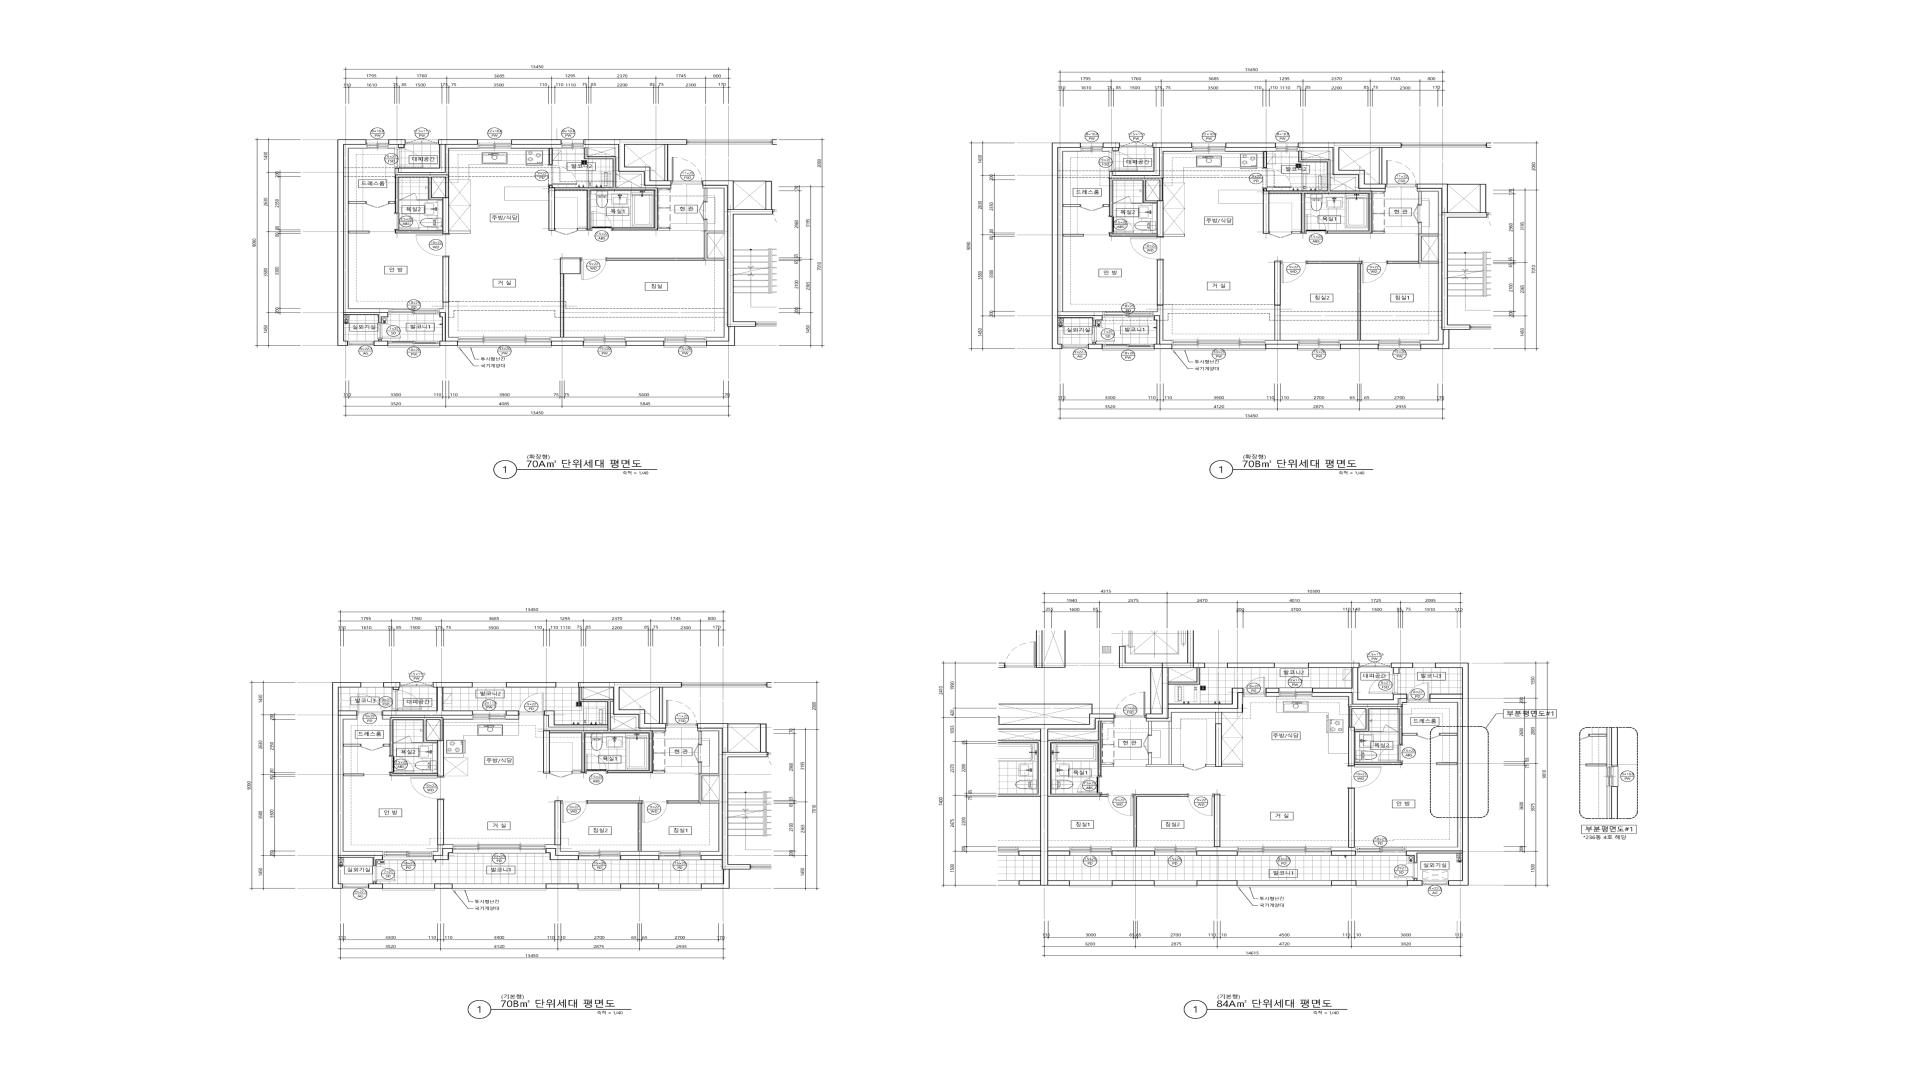door: (666, 700, 698, 728), (671, 157, 703, 183), (1386, 161, 1418, 186), (1114, 692, 1146, 717), (415, 233, 448, 257), (410, 777, 444, 799), (1349, 766, 1382, 789), (549, 165, 578, 186), (393, 690, 422, 711), (1369, 674, 1399, 694), (560, 800, 587, 823), (518, 692, 545, 715), (1280, 261, 1307, 284), (1188, 794, 1215, 816), (1108, 794, 1134, 816), (1263, 167, 1291, 189), (394, 148, 423, 167), (1109, 152, 1138, 171), (642, 800, 667, 823), (1362, 261, 1387, 284), (357, 694, 382, 716), (580, 258, 607, 280), (591, 211, 613, 231), (1407, 683, 1429, 703), (1244, 676, 1266, 696), (1378, 745, 1403, 762), (585, 754, 608, 773), (1304, 215, 1327, 233), (390, 756, 414, 773), (1109, 216, 1133, 233), (1077, 777, 1101, 794), (373, 866, 396, 882), (378, 323, 401, 339), (1093, 326, 1116, 342), (1395, 862, 1418, 878), (1270, 231, 1292, 239), (360, 744, 384, 750), (365, 202, 389, 208), (1080, 204, 1104, 211), (1416, 733, 1440, 740), (550, 771, 572, 778), (555, 228, 578, 235), (393, 736, 411, 744), (699, 202, 707, 220), (1414, 204, 1422, 223), (1143, 735, 1151, 753), (694, 745, 702, 762), (400, 193, 417, 200), (1183, 765, 1207, 770), (1113, 196, 1131, 203), (1383, 725, 1399, 732)
wall: (607, 186, 728, 342), (1406, 663, 1469, 886), (543, 682, 682, 774), (1040, 713, 1114, 886), (1416, 183, 1487, 349), (698, 724, 767, 889), (703, 181, 773, 345), (1052, 142, 1102, 349), (332, 682, 382, 889), (338, 140, 388, 345), (555, 145, 671, 231), (1263, 150, 1373, 233), (1120, 646, 1244, 719), (1406, 699, 1462, 851), (1058, 148, 1102, 315), (1146, 692, 1244, 766), (339, 716, 382, 856), (1298, 142, 1402, 189), (584, 140, 687, 186), (1307, 261, 1362, 340), (1308, 663, 1407, 704), (1418, 189, 1443, 344), (1298, 148, 1386, 191), (1349, 707, 1403, 766), (390, 717, 444, 777), (1109, 178, 1163, 236), (382, 682, 472, 716), (698, 729, 721, 856), (394, 140, 477, 175), (1134, 794, 1188, 847), (587, 800, 642, 852), (1113, 142, 1192, 175), (1109, 148, 1192, 178), (389, 175, 448, 214), (551, 274, 583, 342), (611, 702, 666, 731), (1312, 694, 1407, 707), (1266, 306, 1298, 344), (543, 715, 608, 731), (512, 145, 562, 165), (1048, 719, 1114, 732), (439, 302, 458, 342), (1154, 306, 1172, 344), (1154, 315, 1172, 349), (439, 313, 458, 345), (707, 233, 725, 258), (1422, 236, 1439, 261), (702, 777, 719, 800), (546, 844, 579, 856), (546, 848, 579, 860), (1168, 669, 1197, 682), (382, 716, 472, 720), (560, 257, 580, 274), (1349, 789, 1354, 848), (1156, 260, 1163, 306), (438, 799, 444, 845), (554, 800, 560, 845), (549, 186, 555, 231), (1274, 261, 1280, 306), (1146, 181, 1159, 203), (1352, 709, 1366, 729), (426, 720, 440, 740), (1215, 794, 1220, 847), (1216, 724, 1222, 766), (1225, 142, 1276, 148), (587, 148, 616, 157), (512, 140, 562, 145), (506, 682, 556, 687), (1228, 663, 1275, 669), (1391, 663, 1414, 674), (443, 257, 448, 302), (433, 844, 452, 856), (433, 848, 452, 860), (1112, 851, 1155, 856), (1112, 881, 1154, 886), (1196, 851, 1237, 856), (620, 851, 659, 856), (1197, 881, 1237, 886), (1225, 148, 1276, 152), (1340, 344, 1378, 349), (621, 884, 658, 889), (394, 229, 443, 233), (443, 198, 448, 233), (1112, 847, 1155, 851), (546, 884, 578, 889), (1266, 344, 1298, 349), (1196, 847, 1237, 851), (1102, 142, 1120, 152), (620, 856, 659, 860), (1340, 340, 1378, 344), (626, 342, 663, 345), (626, 338, 663, 342), (384, 682, 401, 690), (1332, 881, 1356, 886), (1407, 878, 1423, 886), (1332, 851, 1356, 856), (389, 140, 405, 148), (551, 342, 583, 345), (1088, 342, 1102, 349), (659, 687, 662, 724), (434, 884, 452, 889), (368, 882, 382, 889), (373, 339, 388, 345), (665, 145, 667, 181), (1379, 148, 1382, 183), (1332, 847, 1356, 851), (1387, 261, 1419, 264), (1048, 847, 1069, 851), (667, 800, 699, 803), (505, 711, 518, 716), (1263, 152, 1267, 167), (448, 231, 471, 233), (1150, 669, 1151, 713), (348, 231, 369, 233), (505, 716, 518, 720), (1266, 688, 1279, 692), (1266, 692, 1279, 696), (348, 202, 365, 204), (733, 181, 766, 182), (1102, 148, 1113, 152), (1448, 183, 1480, 185), (389, 145, 398, 149), (1403, 733, 1416, 736), (653, 770, 665, 773), (1373, 231, 1385, 233), (1163, 235, 1185, 236), (1222, 765, 1244, 766), (1292, 231, 1302, 233), (384, 744, 390, 746), (1101, 765, 1114, 766), (411, 742, 422, 744), (417, 199, 427, 200), (1104, 204, 1109, 207), (572, 771, 582, 773), (1207, 765, 1216, 766), (728, 724, 761, 724), (1131, 203, 1142, 203), (1370, 732, 1383, 732)
window: (1172, 340, 1266, 351), (458, 338, 551, 348), (1237, 847, 1332, 856), (452, 844, 546, 853), (1237, 881, 1332, 887), (452, 884, 546, 890), (1356, 847, 1406, 856), (1378, 340, 1422, 351), (663, 338, 707, 348), (583, 338, 626, 348), (1298, 340, 1340, 351), (382, 852, 433, 860), (1069, 847, 1112, 856), (659, 851, 700, 860), (579, 851, 620, 860), (1155, 847, 1196, 856), (382, 884, 435, 890), (388, 342, 440, 348), (1356, 881, 1407, 887), (1102, 311, 1154, 318), (1102, 344, 1154, 351), (472, 711, 506, 720), (477, 140, 512, 149), (1192, 142, 1225, 152), (578, 884, 621, 890), (658, 884, 702, 890), (1154, 881, 1197, 887), (1069, 881, 1112, 887), (388, 309, 439, 314), (1279, 688, 1312, 696), (1120, 141, 1153, 148), (405, 138, 438, 145), (367, 140, 389, 149), (1080, 142, 1102, 152), (562, 140, 584, 149), (1276, 142, 1298, 152), (472, 682, 506, 687), (400, 682, 433, 687), (1275, 663, 1308, 669), (1360, 662, 1391, 667), (1062, 344, 1088, 349), (343, 884, 368, 889), (361, 682, 384, 687), (556, 682, 579, 687), (348, 342, 373, 345), (1423, 881, 1448, 885), (1205, 663, 1228, 667), (1414, 663, 1435, 667)
